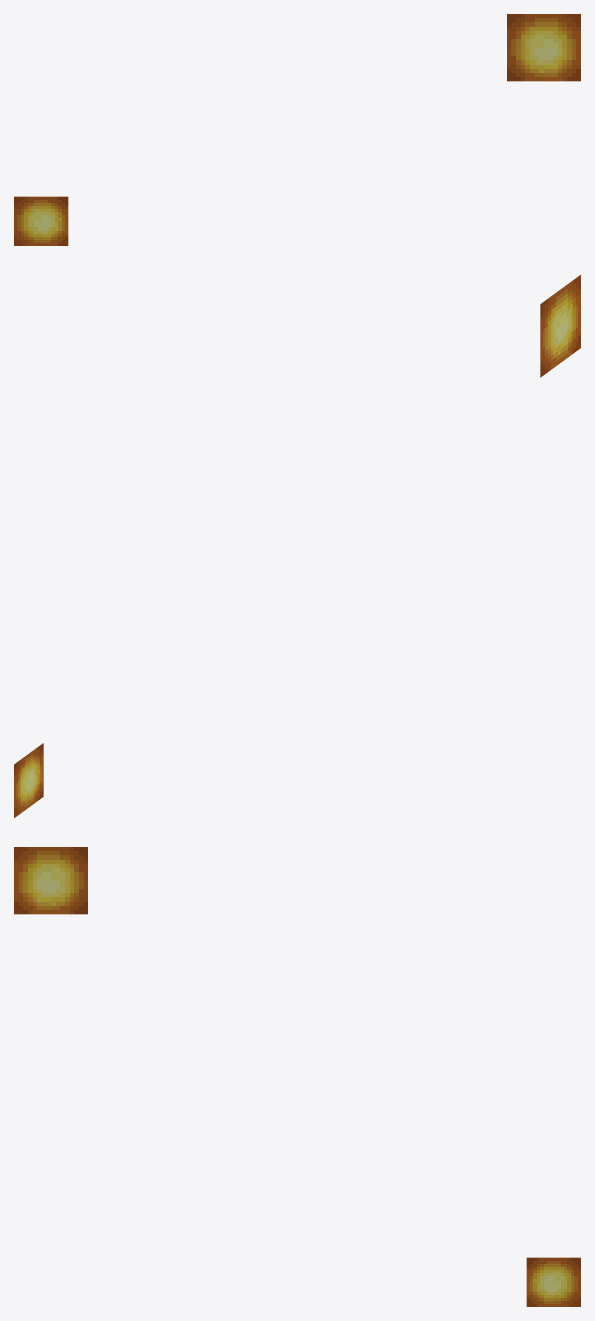
Rendered from fireflies01.glb.
The picture shows the model from 3 angles, top to bottom: view 1: azimuth 90°, elevation 25°; view 2: azimuth 150°, elevation 25°; view 3: azimuth 270°, elevation 25°; orthographic projection. The views are drawn at different scales.
Size of the model in its own units: 0.3546 by 0.5013 by 0.7448.
Materials: 1 (1 with a texture image).
